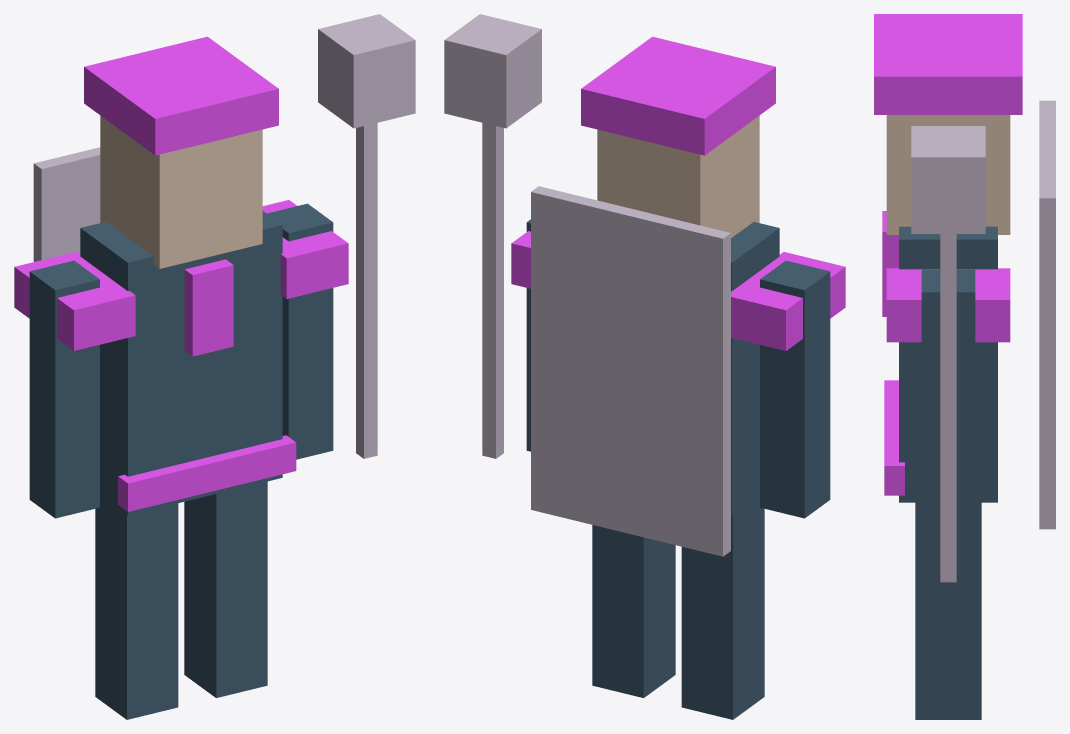
Rendered from 15_ren_wayfare_broker_of_rooftop.glb.
3 views of the same model, side by side, from view 1: azimuth 30°, elevation 25°; view 2: azimuth 150°, elevation 25°; view 3: azimuth 270°, elevation 25° (orthographic). The views are drawn at different scales.
Parts seen in each view (by area): view 1: Ren Wayfare, Broker of Rooftop; view 2: Ren Wayfare, Broker of Rooftop; view 3: Ren Wayfare, Broker of Rooftop.
Part boxes in pixels (x1,y1,x2,y2): Ren Wayfare, Broker of Rooftop: (14,14,415,719); Ren Wayfare, Broker of Rooftop: (444,14,845,719); Ren Wayfare, Broker of Rooftop: (874,14,1055,719).
Size of the model in its own units: 0.9764 by 1.61 by 0.4151.
